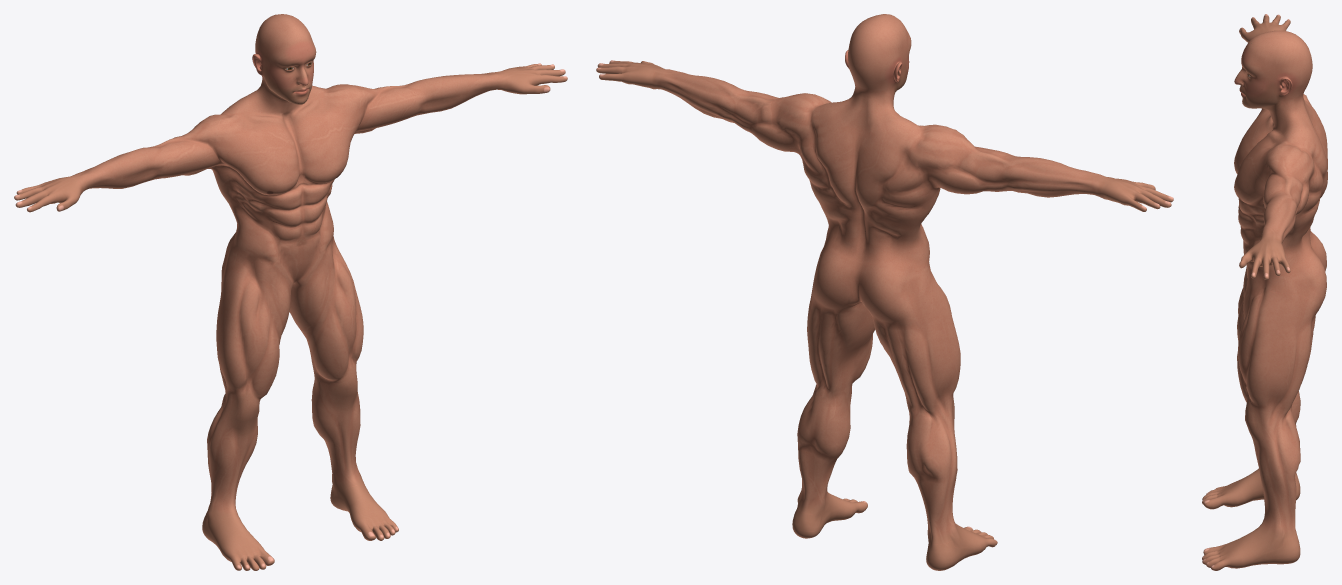
The model's file is body.glb.
3 views of the same model, side by side, from view 1: azimuth 30°, elevation 25°; view 2: azimuth 150°, elevation 25°; view 3: azimuth 270°, elevation 25° (orthographic). The views are drawn at different scales.
Visible parts, largest first — view 1: body_low; view 2: body_low; view 3: body_low.
Part boxes in pixels (<box>): body_low: <box>14,14,567,570</box>; body_low: <box>596,14,1173,570</box>; body_low: <box>1202,14,1327,570</box>.
Bounding box in the file's own units: 0.1994 × 0.1771 × 0.0404.
3 materials, 2 textured.
